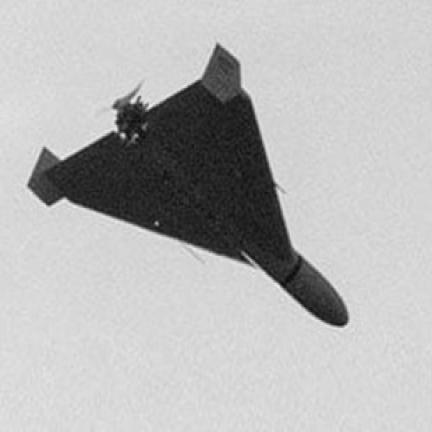Shahed: (28, 44, 349, 326)
